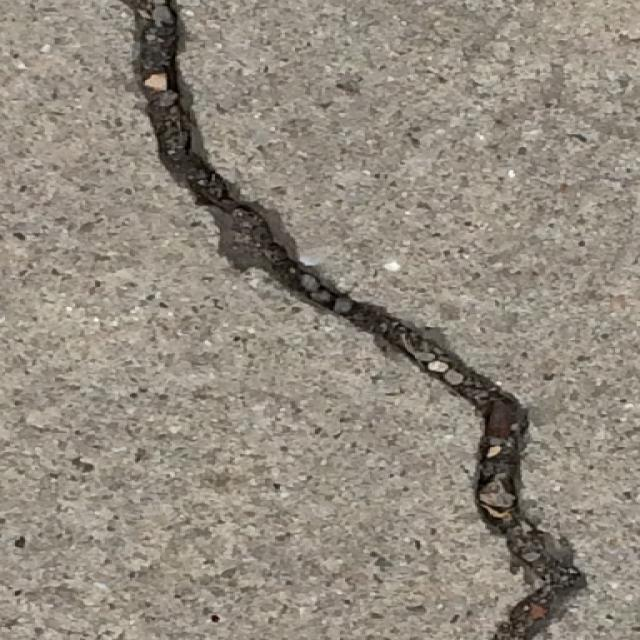crack: (118, 0, 598, 637)
